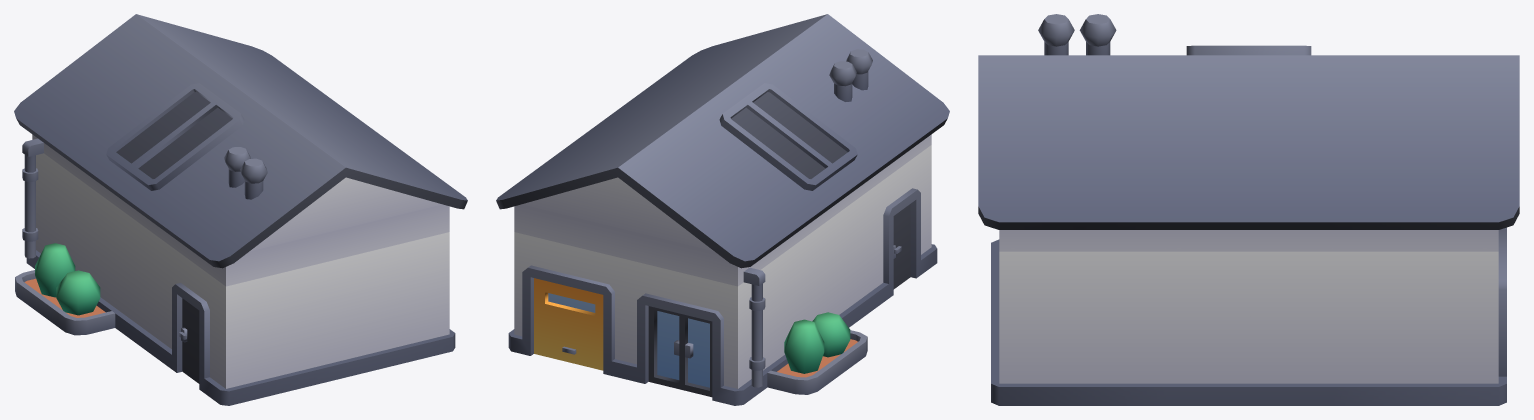
Rendered from building-i_lev1.glb.
3 views of the same model, side by side, from view 1: azimuth 30°, elevation 25°; view 2: azimuth 150°, elevation 25°; view 3: azimuth 270°, elevation 25° (orthographic). The views are drawn at different scales.
Parts seen in each view (by area): view 1: building-i_lev1; view 2: building-i_lev1; view 3: building-i_lev1.
Boxes of the visible parts, <box> form: building-i_lev1: <box>14,14,467,405</box>; building-i_lev1: <box>496,14,949,405</box>; building-i_lev1: <box>978,14,1519,405</box>.
Bounding box in the file's own units: 1.03 × 0.7335 × 1.3.
1 material, 1 textured.
